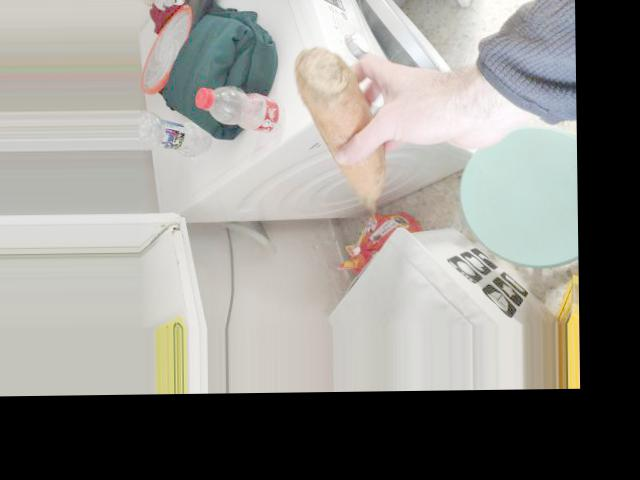sweet_potato: (288, 56, 399, 198)
